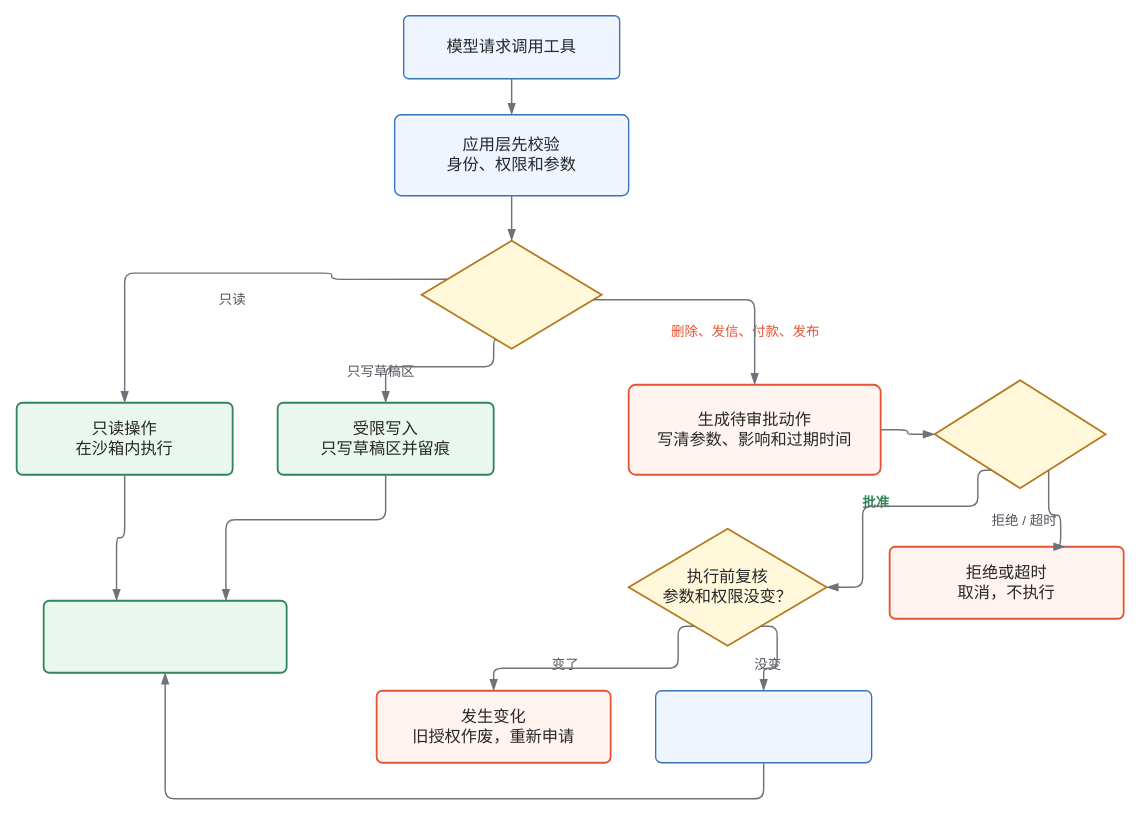
Some shapes in this 1139 by 825 pixel diagram are drawn without their labels. Here are the shapes that lost their labels. From the top down, the box of each, then its label:
(420, 239, 602, 349): 这次操作 有多大风险？
(933, 379, 1106, 489): 用户确认吗？
(42, 599, 287, 673): 记录结果和证据
(655, 690, 872, 763): 未发生变化 幂等执行一次
